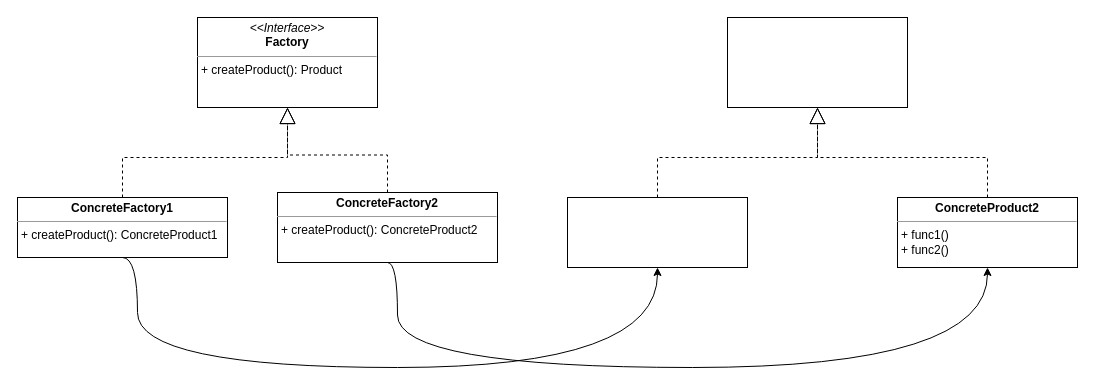
Image size: 1095x385. Some labels were removed from this diagram. Here are the shapes that lost their labels. From the top down, the centre of each, then its label:
At point (817, 62): "<<Interface>> Product + func1() + func2()".
At point (657, 232): "ConcreteProduct1 + func1() + func2()".
